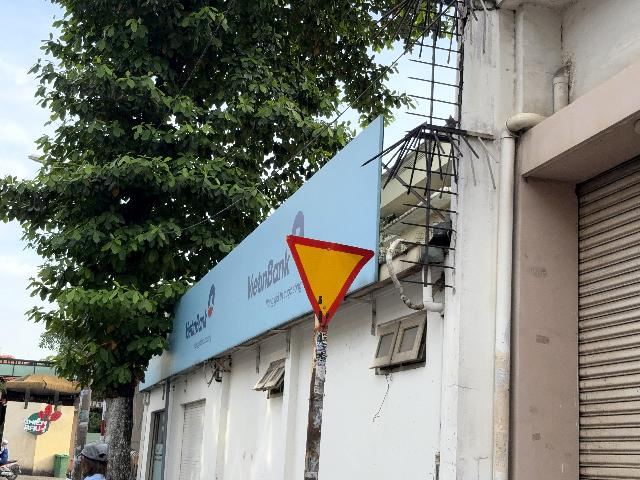giao-nhau-voi-duong-uu-tien: (285, 235, 375, 327)
